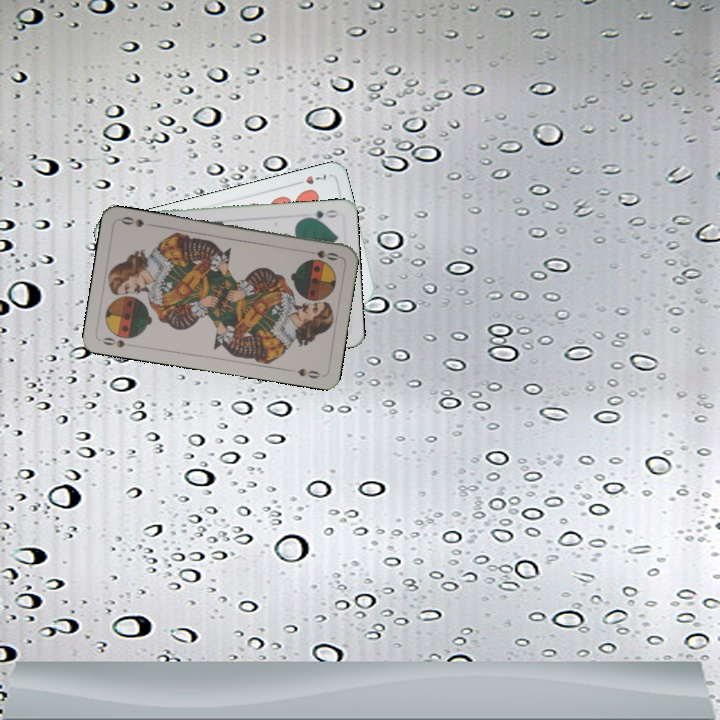GO: (301, 206, 341, 223)
H7: (291, 169, 330, 187)
SO: (302, 246, 342, 263), (98, 333, 128, 350)
